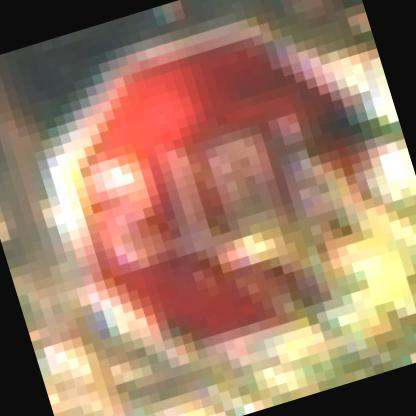stop: (29, 0, 415, 389)
